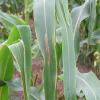Corn leaf blight: (33, 0, 58, 99)
